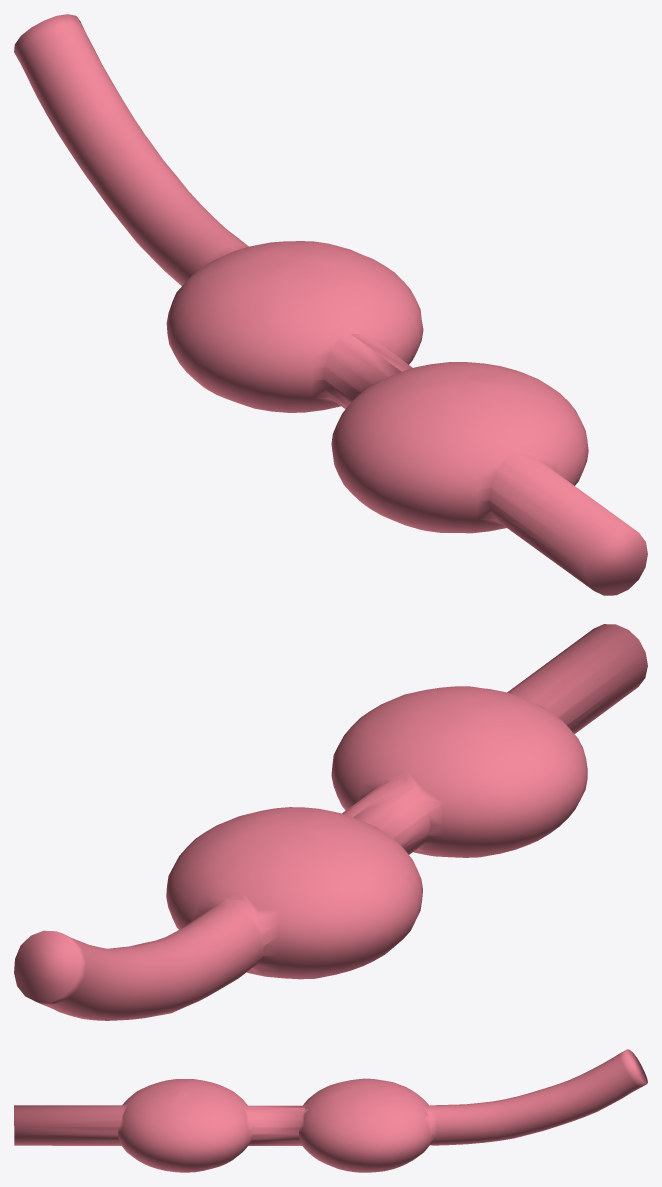
File: stage_heart.glb
3 renders of one model, top to bottom at view 1: azimuth 30°, elevation 25°; view 2: azimuth 150°, elevation 25°; view 3: azimuth 270°, elevation 25°, orthographic. The views are drawn at different scales.
Parts seen in each view (by area): view 1: HeartRooms; view 2: HeartRooms; view 3: HeartRooms.
Part boxes in pixels (x1=…): HeartRooms: x1=14, y1=14, x2=647, y2=595; HeartRooms: x1=14, y1=624, x2=647, y2=1020; HeartRooms: x1=14, y1=1049, x2=647, y2=1172.
Size of the model in its own units: 28.01 by 24.42 by 126.
